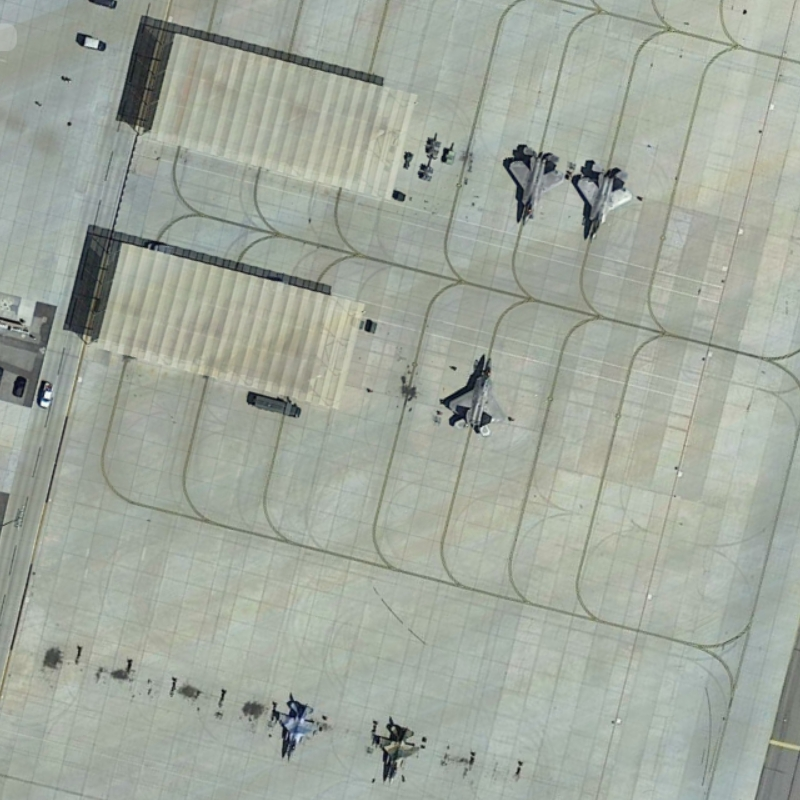A15: (437, 347, 513, 442), (497, 136, 568, 232), (569, 158, 637, 246)
A5: (372, 719, 423, 788), (276, 697, 324, 764)
